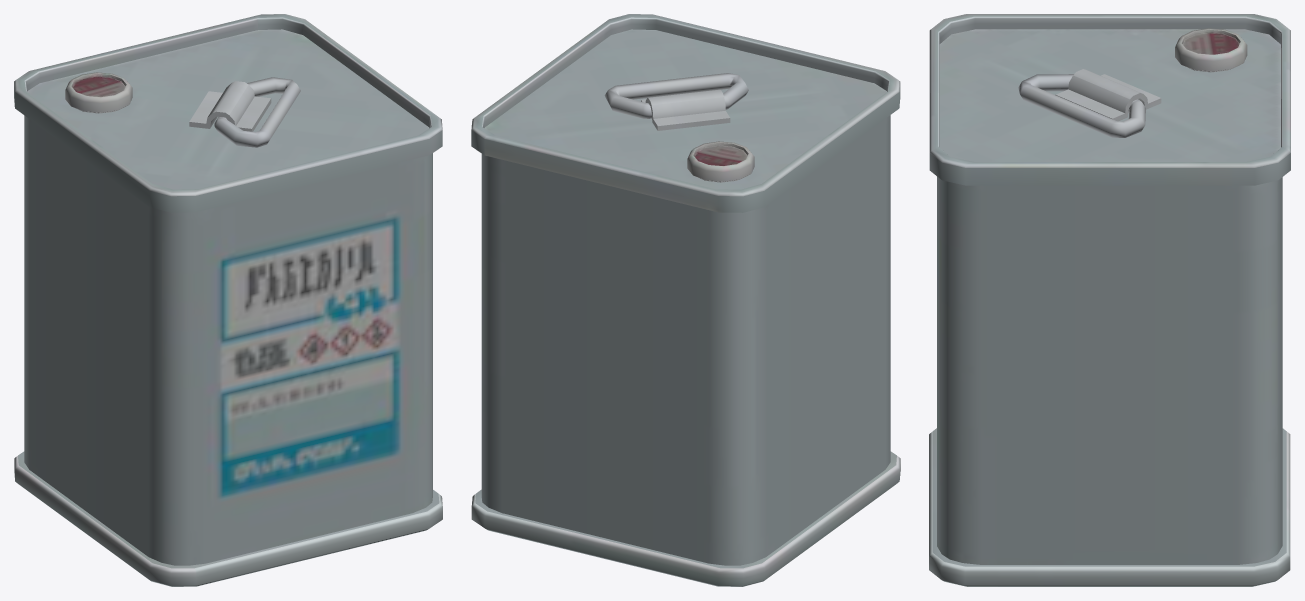
3 views of the same model, side by side, from view 1: azimuth 30°, elevation 25°; view 2: azimuth 150°, elevation 25°; view 3: azimuth 270°, elevation 25° (orthographic). The views are drawn at different scales.
Size of the model in its own units: 4.6 by 6.03 by 4.6.
1 material, 1 textured.
